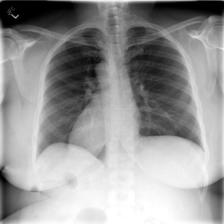normal: (30, 19, 211, 181)
